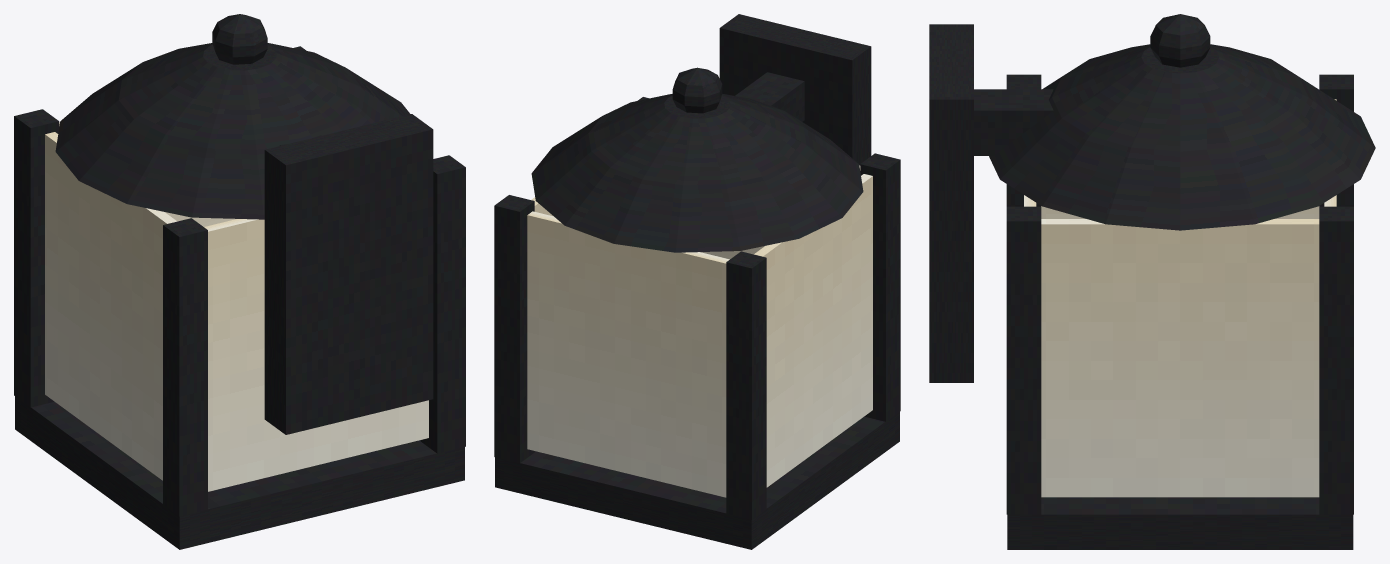
File: sconce_carriage_lantern.obj
The picture shows the model from 3 angles, left to right: view 1: azimuth 30°, elevation 25°; view 2: azimuth 150°, elevation 25°; view 3: azimuth 270°, elevation 25°; orthographic projection. The views are drawn at different scales.
Visible parts, largest first — view 1: sconce_carriage_lantern; view 2: sconce_carriage_lantern; view 3: sconce_carriage_lantern.
Part boxes in pixels (left/top/right/bottom): sconce_carriage_lantern: left=14, top=14, right=465, bottom=549; sconce_carriage_lantern: left=494, top=14, right=900, bottom=549; sconce_carriage_lantern: left=929, top=14, right=1375, bottom=549.
Bounding box in the file's own units: 0.4375 × 0.6156 × 0.5.
